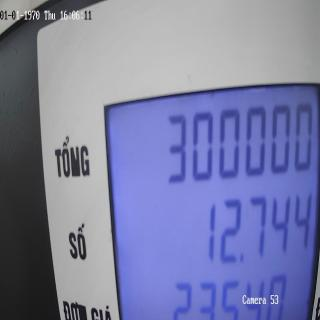screen: (97, 69, 319, 320)
